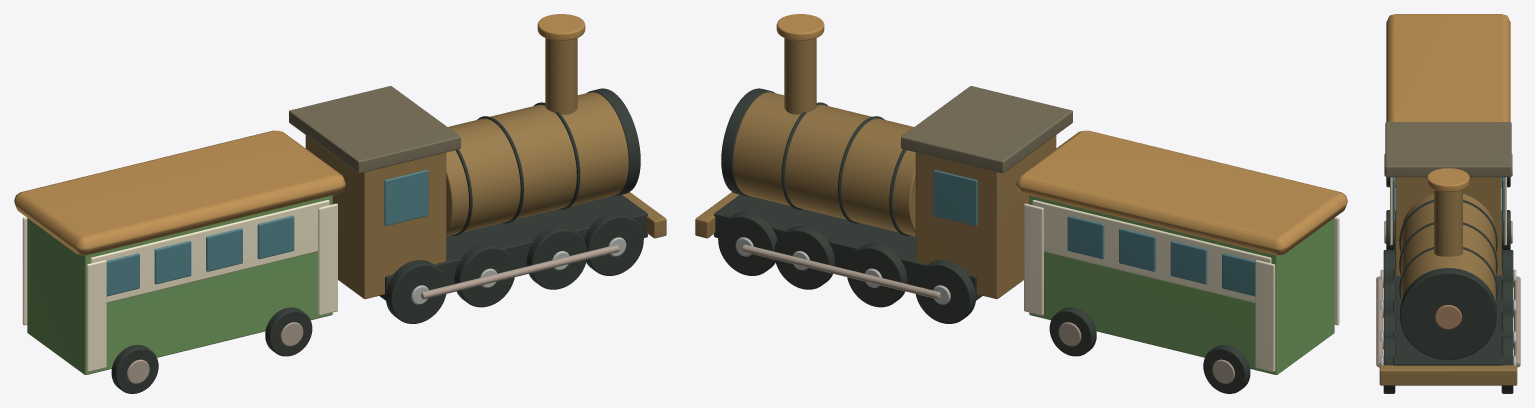
File: asset10.glb
The picture shows the model from 3 angles, left to right: view 1: azimuth 30°, elevation 25°; view 2: azimuth 150°, elevation 25°; view 3: azimuth 270°, elevation 25°; orthographic projection. The views are drawn at different scales.
Visible parts, largest first — view 1: 10_steam_train; view 2: 10_steam_train; view 3: 10_steam_train.
Part boxes in pixels (<box>): 10_steam_train: <box>14,14,666,393</box>; 10_steam_train: <box>695,14,1347,393</box>; 10_steam_train: <box>1376,14,1520,393</box>.
Bounding box in the file's own units: 1 × 0.382 × 0.2392.
